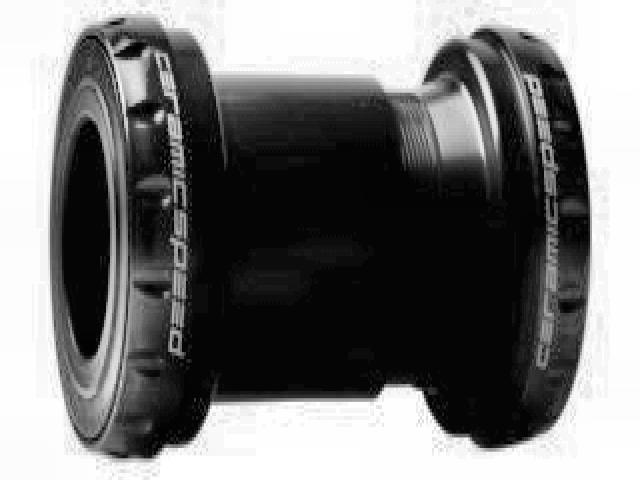bottom_bracket: (45, 13, 596, 461)
